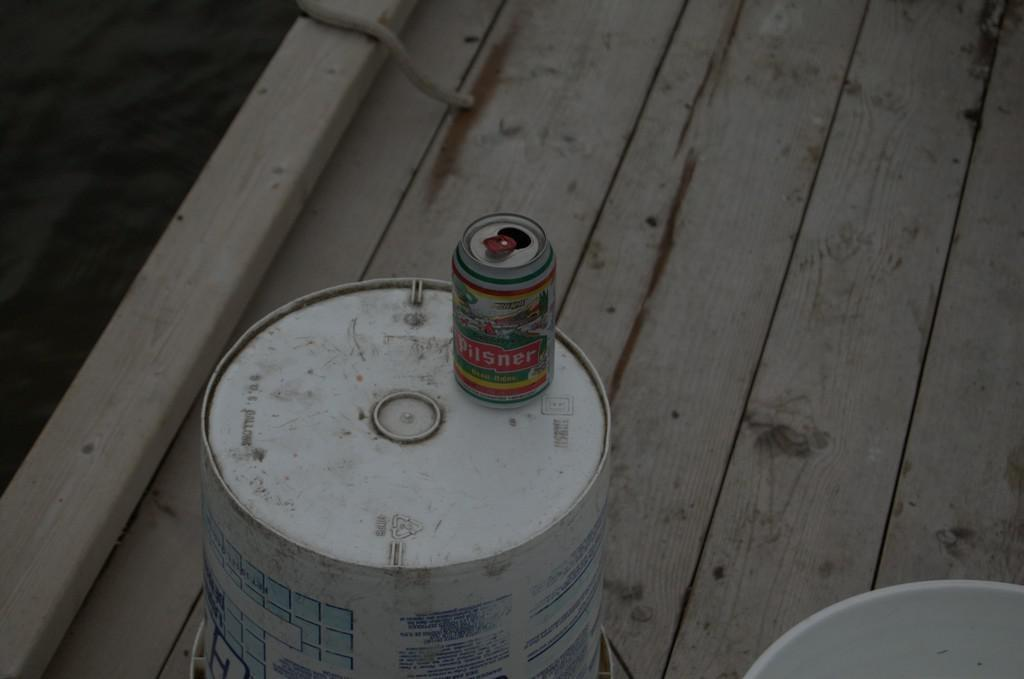tin can: (451, 213, 561, 418)
